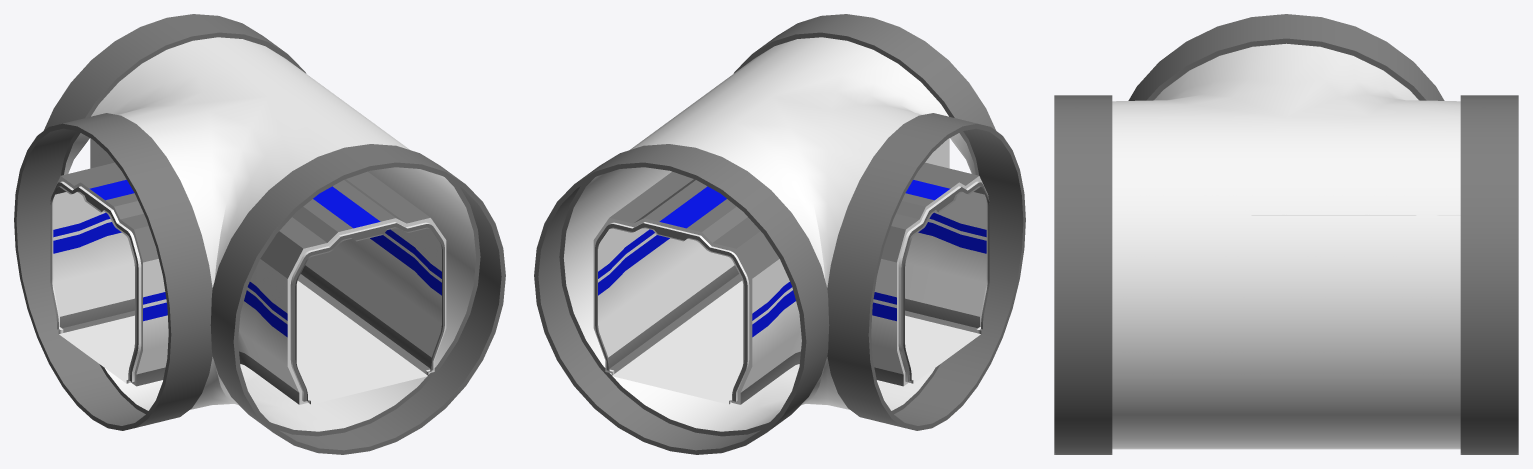
The model's file is PasilloT.fbx.
The picture shows the model from 3 angles, left to right: view 1: azimuth 30°, elevation 25°; view 2: azimuth 150°, elevation 25°; view 3: azimuth 270°, elevation 25°; orthographic projection. The views are drawn at different scales.
Parts seen in each view (by area): view 1: PasilloT; view 2: PasilloT; view 3: PasilloT.
Part boxes in pixels (x1=…): PasilloT: x1=14, y1=14, x2=505, y2=454; PasilloT: x1=534, y1=14, x2=1025, y2=454; PasilloT: x1=1054, y1=14, x2=1518, y2=454.
Bounding box in the file's own units: 1420 × 1240 × 1600.
Materials: 1 (1 with a texture image).
